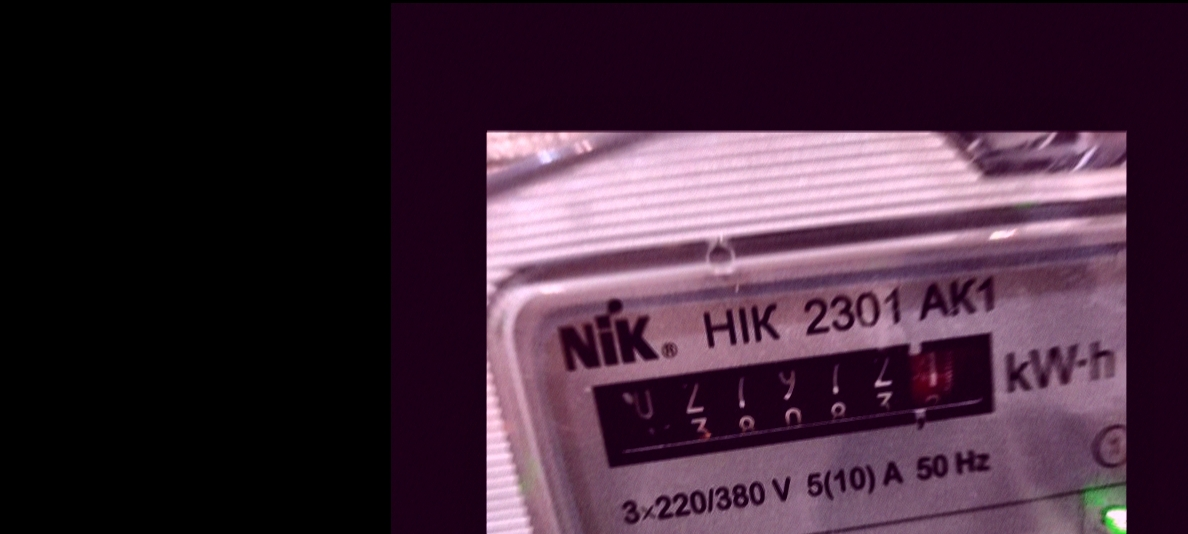0: (630, 384, 658, 420)
1: (923, 347, 945, 390)
2: (679, 375, 708, 414), (869, 351, 897, 388)
7: (822, 356, 848, 397), (729, 372, 752, 409)
9: (776, 365, 802, 400)
screen: (576, 323, 1028, 477)
